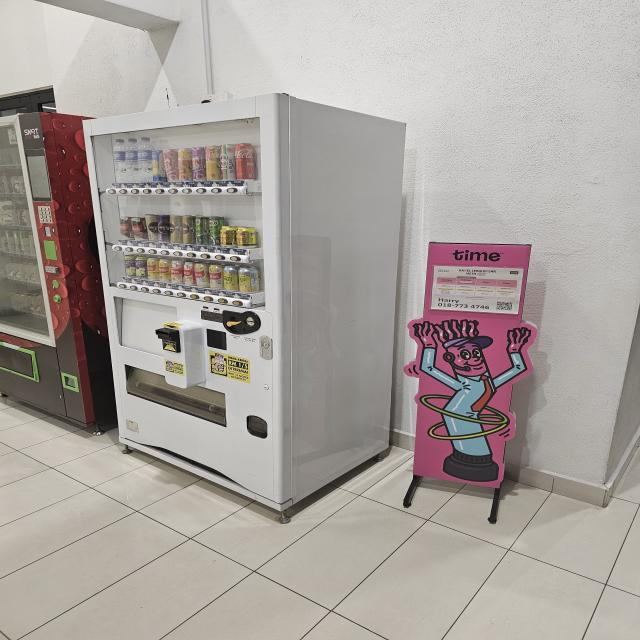footpath: (3, 517, 474, 640)
obstacle: (79, 92, 408, 526), (398, 225, 537, 538), (1, 110, 114, 437)
